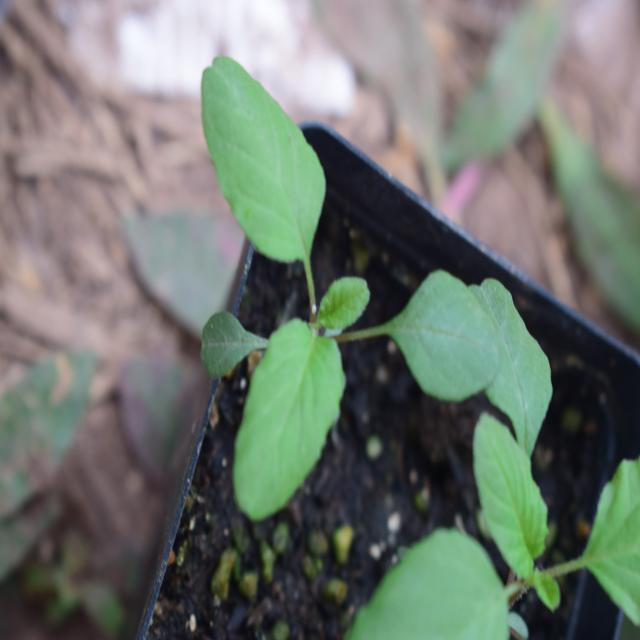pigweed: (188, 47, 488, 543)
